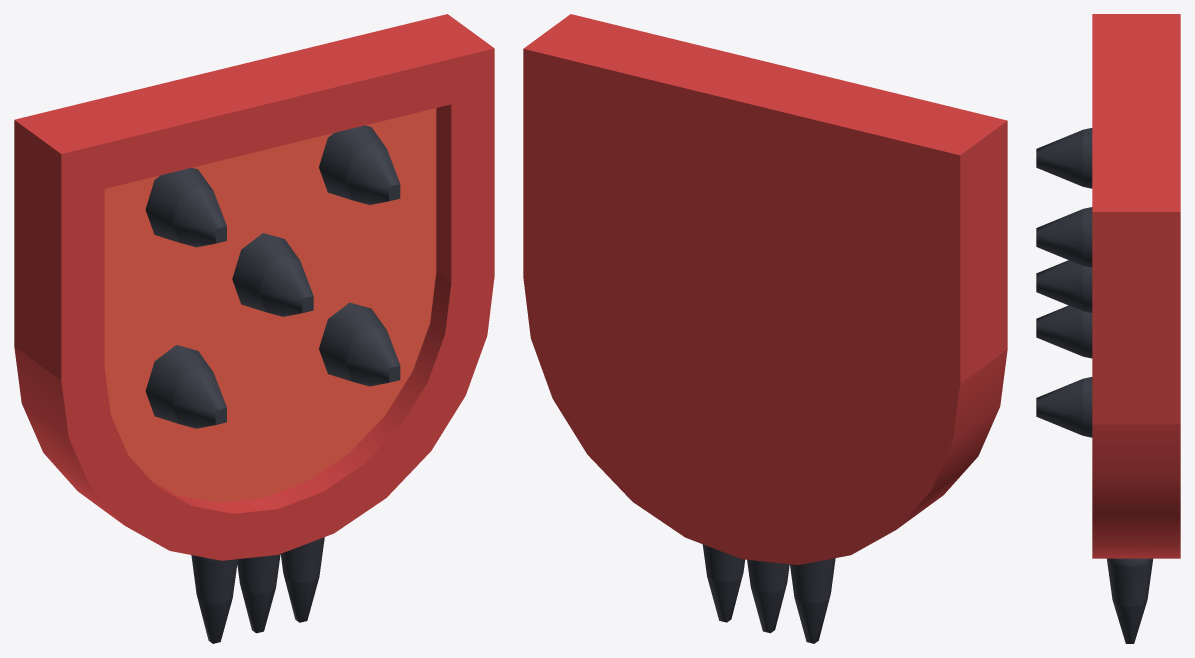
Rendered from shield.fbx.
The picture shows the model from 3 angles, left to right: view 1: azimuth 30°, elevation 25°; view 2: azimuth 150°, elevation 25°; view 3: azimuth 270°, elevation 25°; orthographic projection. The views are drawn at different scales.
Visible parts, largest first — view 1: mergedBlocks; view 2: mergedBlocks; view 3: mergedBlocks.
Part boxes in pixels (box(x1,y1,x2,y2)): mergedBlocks: box(14, 14, 494, 643); mergedBlocks: box(523, 14, 1007, 643); mergedBlocks: box(1036, 14, 1180, 643).
Bounding box in the file's own units: 10 × 12 × 3.08.
